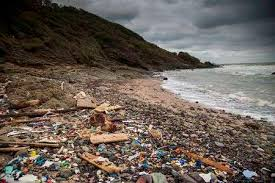garbage: (9, 97, 164, 183), (78, 134, 247, 183)
